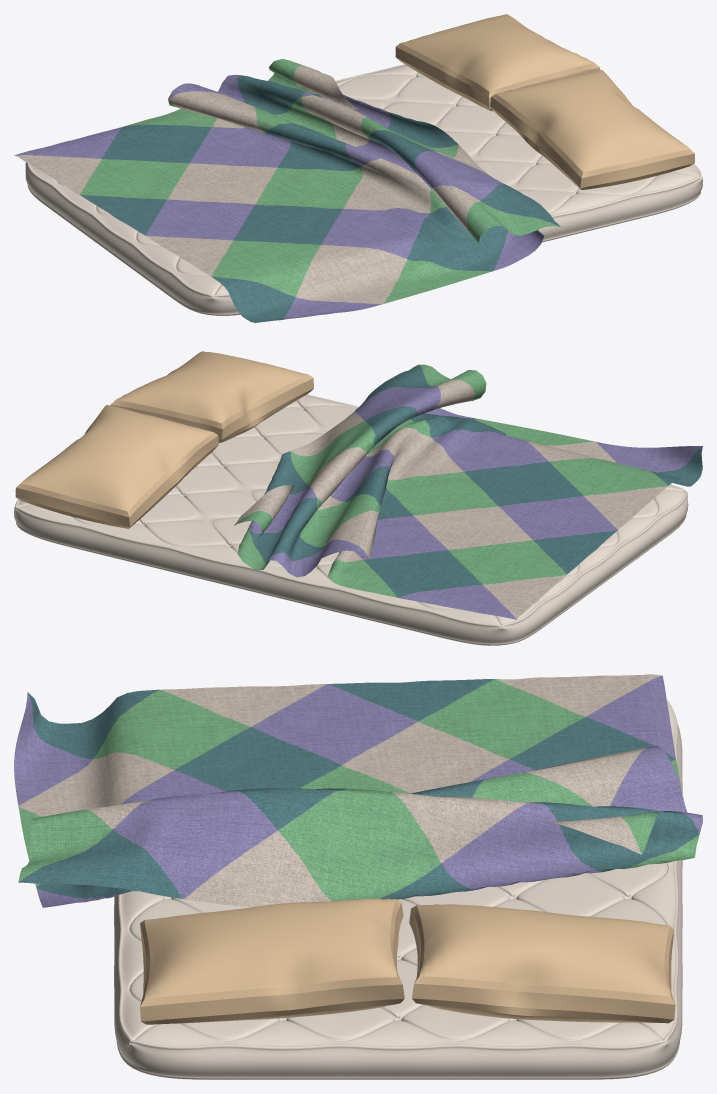
File: mattress_onlyModel.gltf
3 views of the same model, one above another, from view 1: azimuth 30°, elevation 25°; view 2: azimuth 150°, elevation 25°; view 3: azimuth 270°, elevation 25° (orthographic). The views are drawn at different scales.
Visible parts, largest first — view 1: mattress2:PIV; view 2: mattress2:PIV; view 3: mattress2:PIV.
Boxes of the visible parts, left/top/right/bottom form: mattress2:PIV: left=14, top=14, right=702, bottom=322; mattress2:PIV: left=14, top=351, right=702, bottom=645; mattress2:PIV: left=14, top=674, right=702, bottom=1079.
Size of the model in its own units: 223 by 36.6 by 180.
3 materials, 1 textured.
